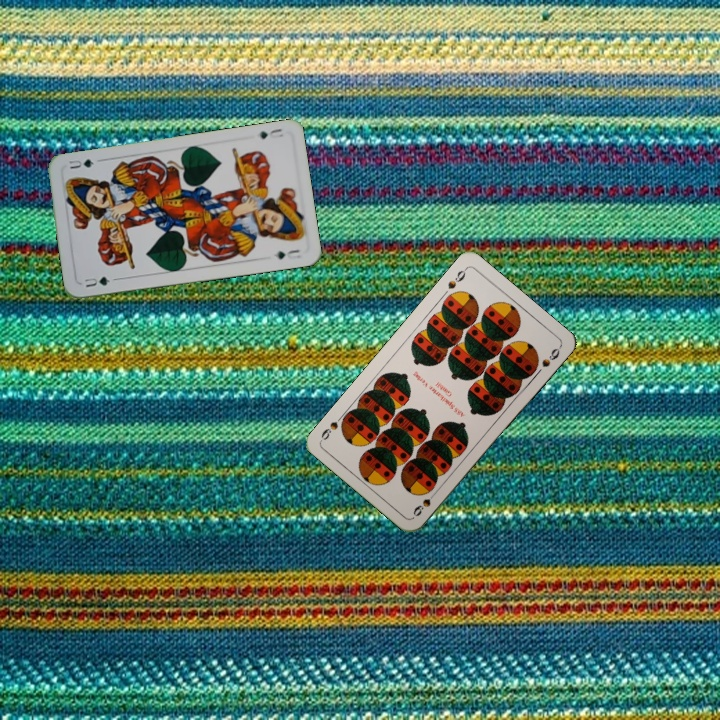GU: (80, 272, 112, 290), (256, 125, 286, 141)
S9: (409, 486, 440, 519), (443, 264, 469, 292)
